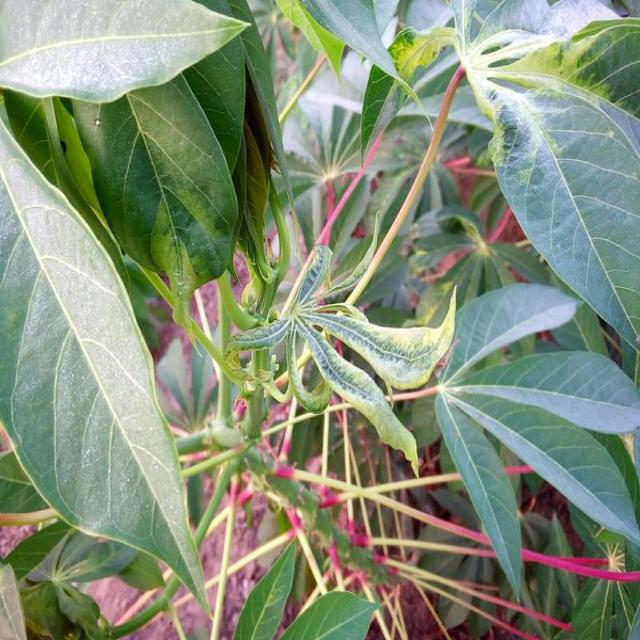cassava leaf: (0, 99, 214, 621)
